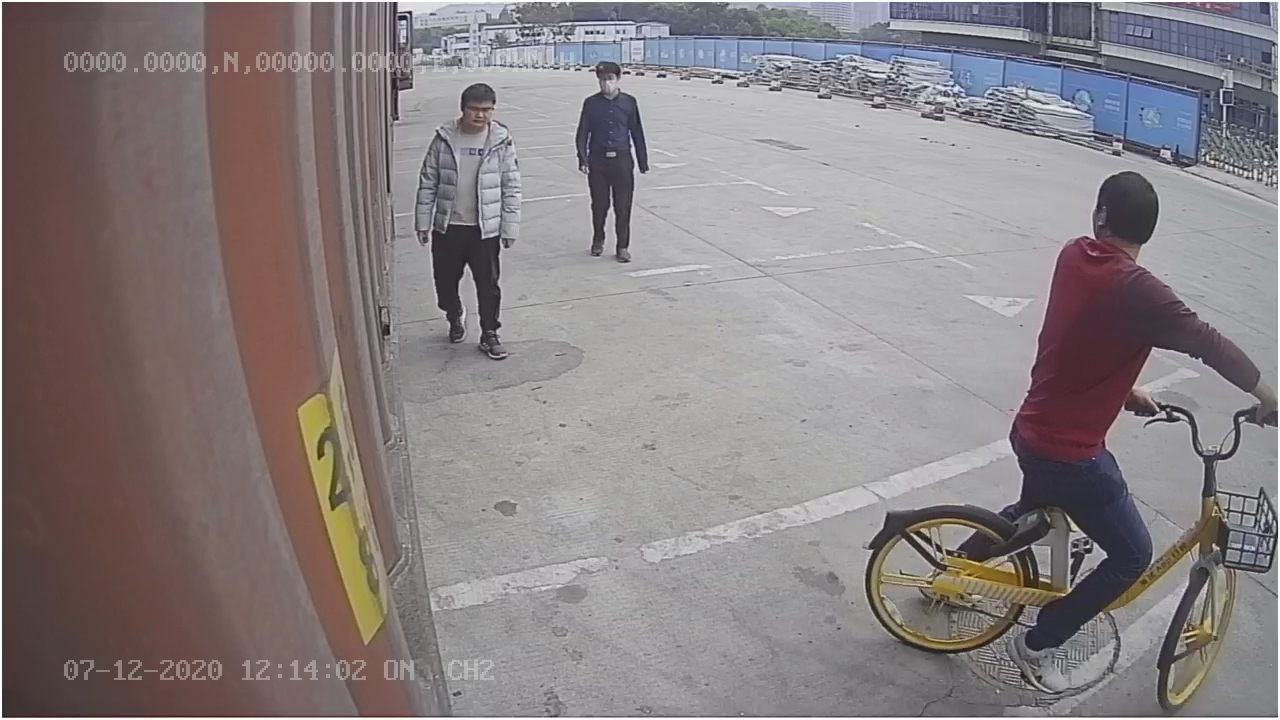person: (413, 77, 519, 362), (558, 56, 665, 267)
